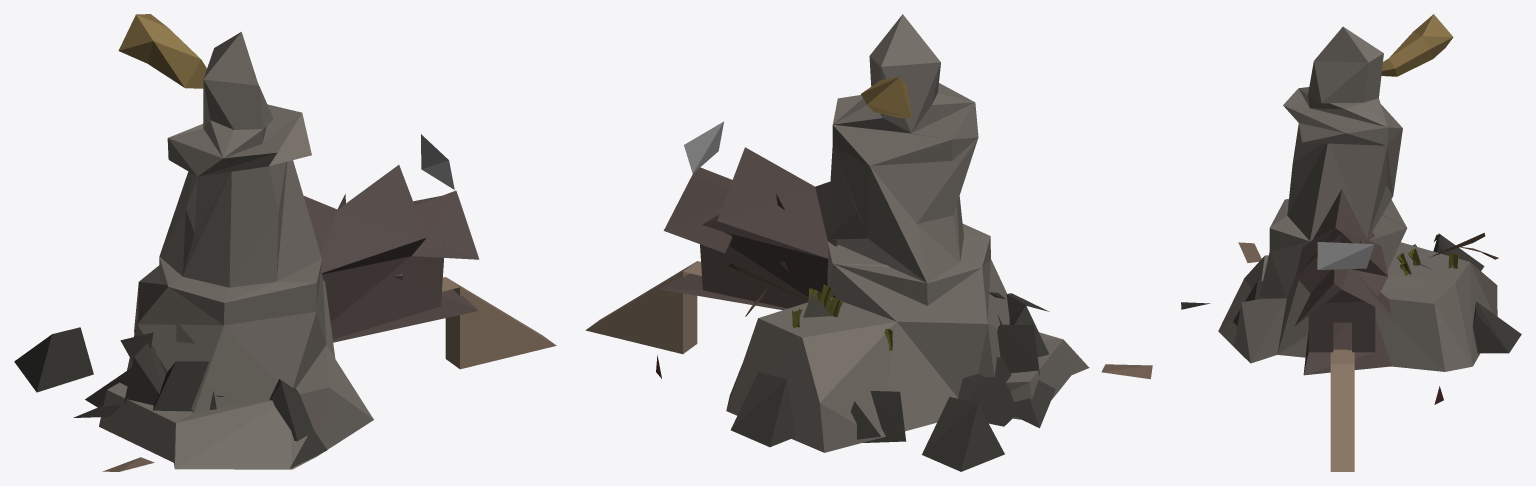
Rendered from lighthouse.access-v12.lod2.glb.
3 views of the same model, side by side, from view 1: azimuth 30°, elevation 25°; view 2: azimuth 150°, elevation 25°; view 3: azimuth 270°, elevation 25° (orthographic). The views are drawn at different scales.
Parts seen in each view (by area): view 1: Cylinder001_Material #343_0; view 2: Cylinder001_Material #343_0; view 3: Cylinder001_Material #343_0.
Part boxes in pixels (x1=…): Cylinder001_Material #343_0: x1=14, y1=14, x2=556, y2=471; Cylinder001_Material #343_0: x1=585, y1=14, x2=1152, y2=471; Cylinder001_Material #343_0: x1=1181, y1=14, x2=1521, y2=471.
Bounding box in the file's own units: 28.42 × 20.82 × 20.08.
